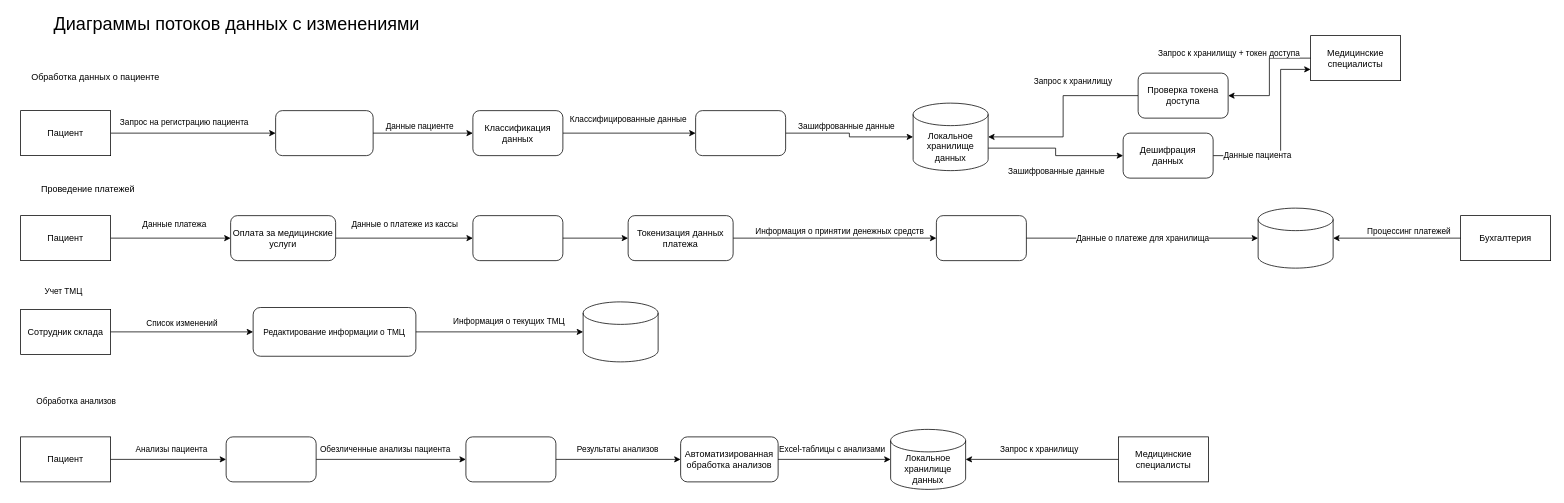
This 1564x503 diagram has some shape labels left out. The centre of each missing label's shape, as x and y in pixels:
"1C Бухгалтерия предприятия" belongs at (1295,237).
"1C Торговля и склад" belongs at (620,331).
"Автоматизированная обработка данных пациента" belongs at (324,133).
"Обезличивание данных" belongs at (270,459).
"Обработка анализов в лаборатории" belongs at (510,459).
"Обработка платежа в 1С" belongs at (981,238).
"Проведение платежа в контрольно-кассовой машине" belongs at (517,238).
"Шифрация данных" belongs at (740,133).
